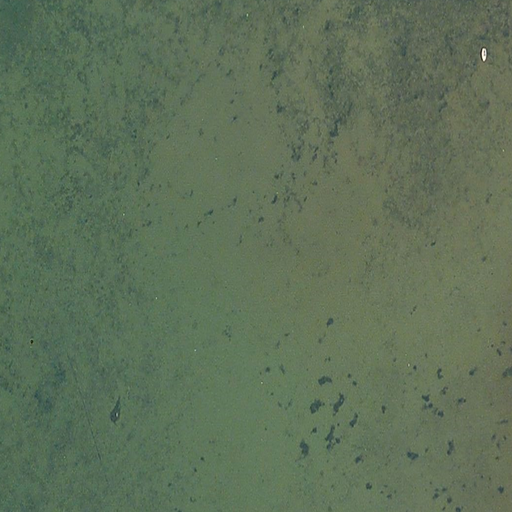ship: (479, 46, 488, 62)
